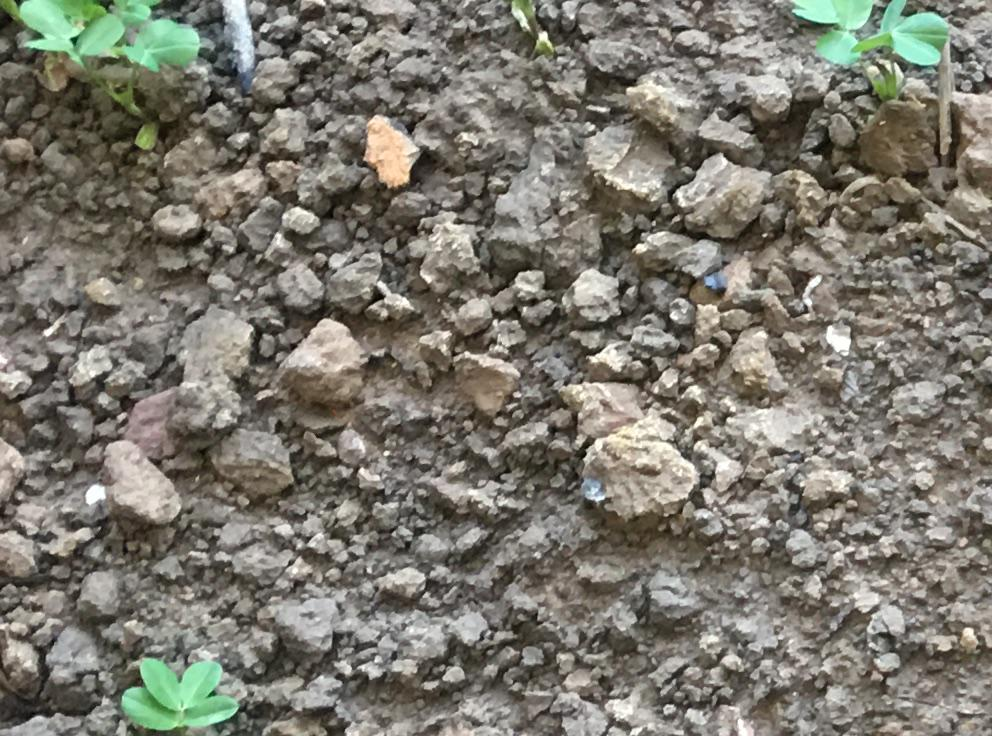block: (576, 429, 693, 529), (171, 305, 247, 442), (586, 114, 675, 217), (95, 439, 183, 525), (677, 156, 764, 240), (854, 95, 937, 176), (277, 320, 357, 401), (205, 433, 296, 497)
